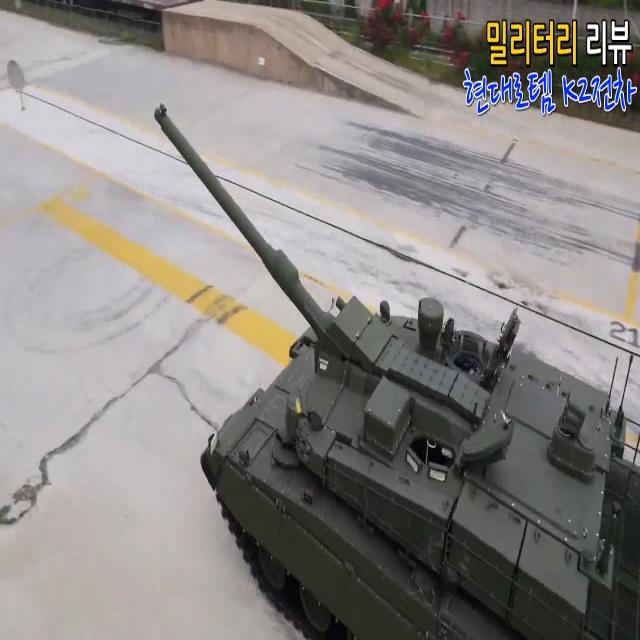korea tank: (153, 100, 640, 640)
